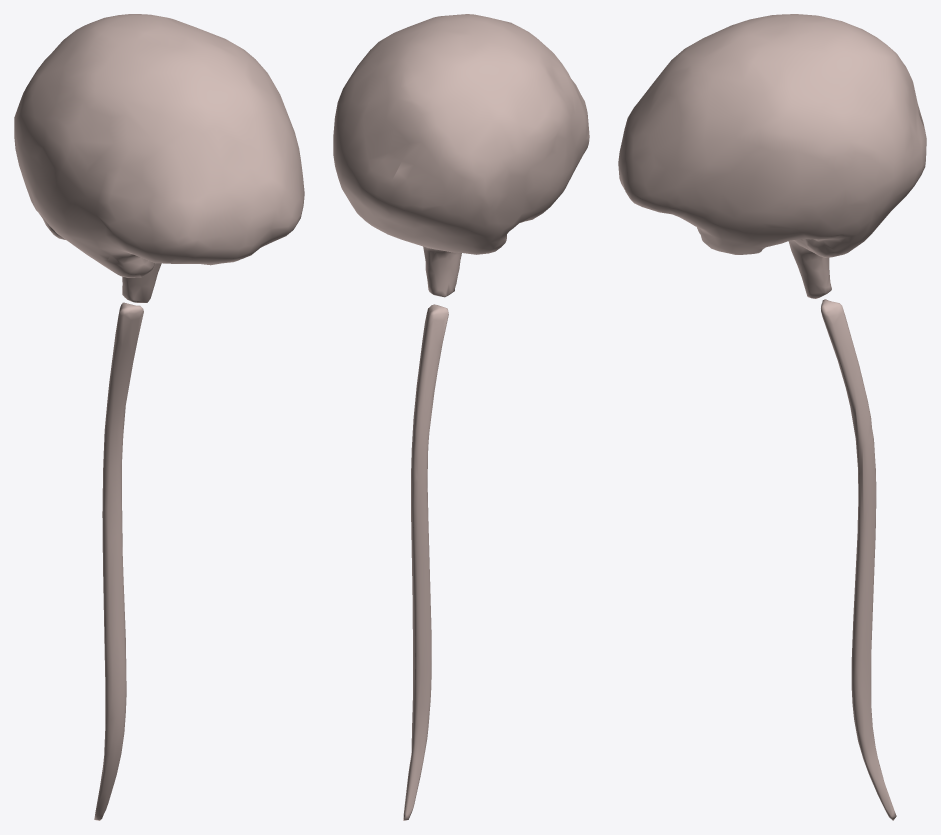
File: pediatric_neonate_female.nervous.LOD0.glb
3 views of the same model, side by side, from view 1: azimuth 30°, elevation 25°; view 2: azimuth 150°, elevation 25°; view 3: azimuth 270°, elevation 25° (orthographic). The views are drawn at different scales.
Parts seen in each view (by area): view 1: PEDIATRIC.NEONATE.FEMALE.NERVOUS.BRAIN, PEDIATRIC.NEONATE.FEMALE.NERVOUS.SPINAL_CORD; view 2: PEDIATRIC.NEONATE.FEMALE.NERVOUS.BRAIN, PEDIATRIC.NEONATE.FEMALE.NERVOUS.SPINAL_CORD; view 3: PEDIATRIC.NEONATE.FEMALE.NERVOUS.BRAIN, PEDIATRIC.NEONATE.FEMALE.NERVOUS.SPINAL_CORD.
Part boxes in pixels (left/top/right/bottom): PEDIATRIC.NEONATE.FEMALE.NERVOUS.BRAIN: left=14, top=14, right=304, bottom=302; PEDIATRIC.NEONATE.FEMALE.NERVOUS.SPINAL_CORD: left=94, top=302, right=143, bottom=820; PEDIATRIC.NEONATE.FEMALE.NERVOUS.BRAIN: left=333, top=14, right=589, bottom=297; PEDIATRIC.NEONATE.FEMALE.NERVOUS.SPINAL_CORD: left=403, top=304, right=448, bottom=820; PEDIATRIC.NEONATE.FEMALE.NERVOUS.BRAIN: left=618, top=14, right=926, bottom=298; PEDIATRIC.NEONATE.FEMALE.NERVOUS.SPINAL_CORD: left=821, top=299, right=896, bottom=820.
Size of the model in its own units: 0.0863 by 0.3024 by 0.1067.
